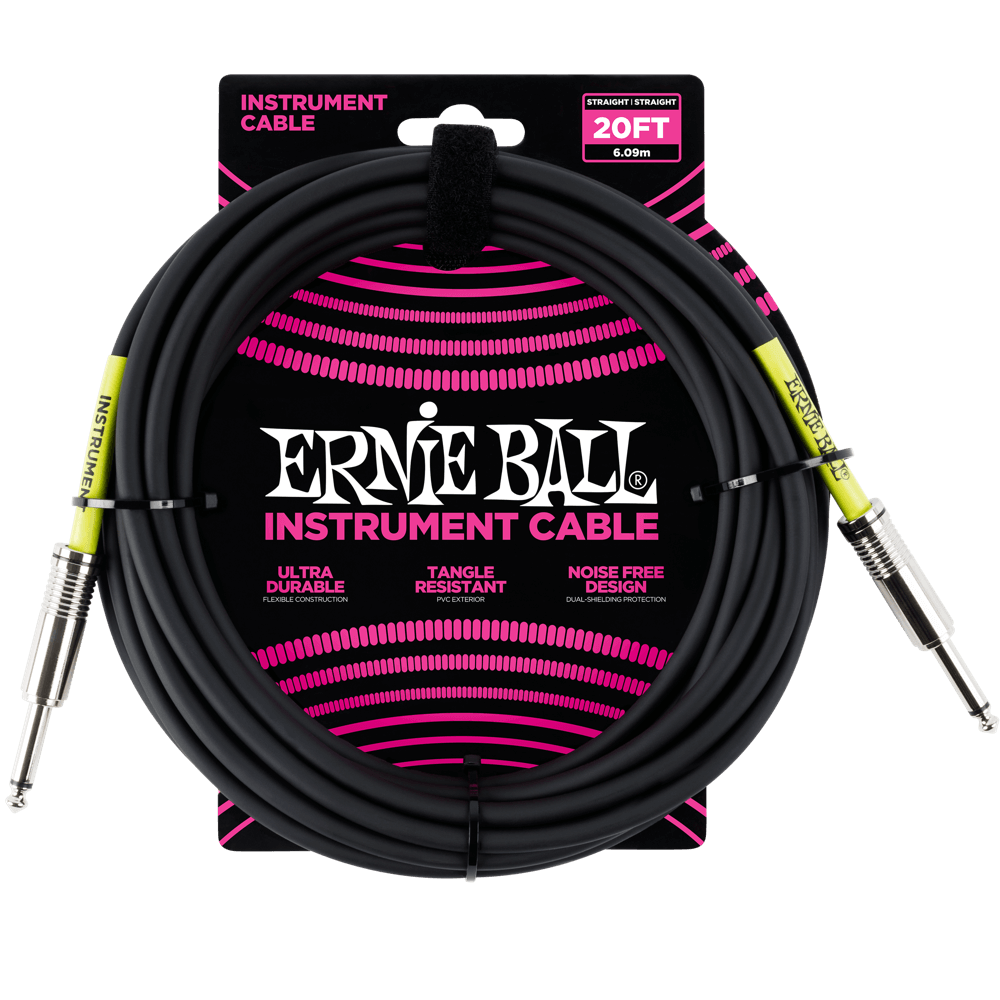Nonrec_Tangler: (1, 40, 889, 889)
